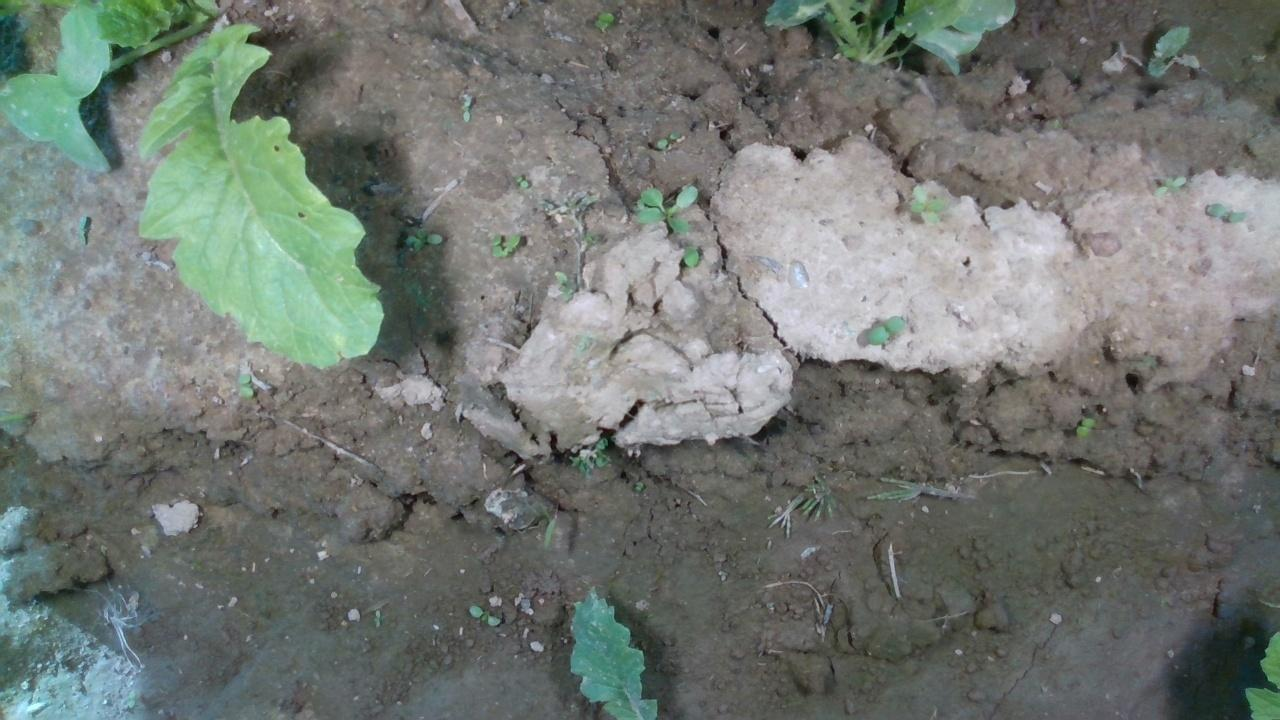weed: (904, 182, 948, 224), (862, 312, 906, 346), (401, 225, 445, 251), (1205, 200, 1246, 225), (1147, 173, 1188, 197), (467, 602, 501, 626), (652, 127, 682, 149), (235, 371, 255, 400), (591, 9, 614, 30), (458, 91, 472, 122), (1076, 415, 1094, 436), (514, 173, 531, 188), (373, 607, 381, 629)
